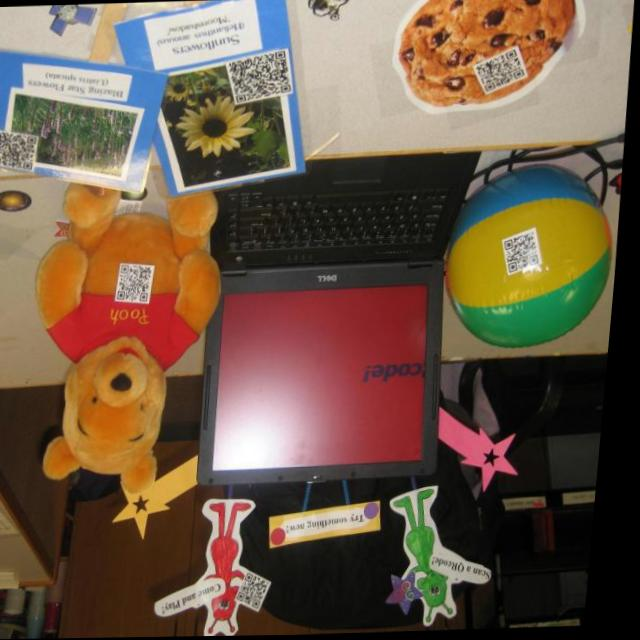qrcode: (226, 52, 296, 104), (475, 50, 529, 93), (1, 129, 41, 171), (506, 233, 546, 274), (122, 263, 159, 303), (247, 572, 282, 611)
